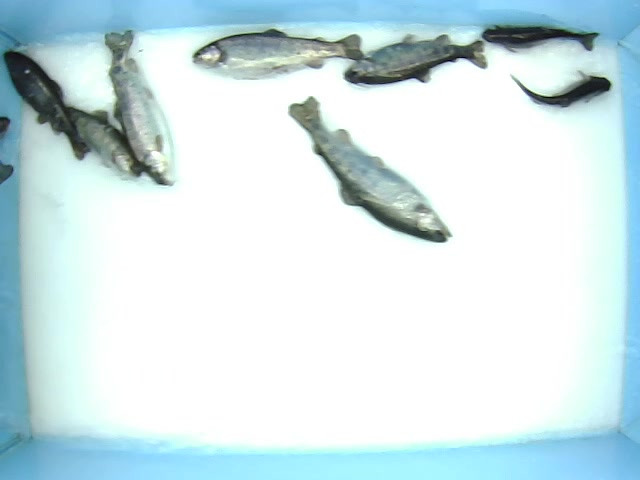fish: (282, 95, 452, 244), (103, 28, 175, 188), (1, 48, 94, 170), (190, 28, 362, 83), (341, 33, 488, 88), (66, 107, 145, 185), (506, 67, 612, 108), (482, 22, 601, 56)
